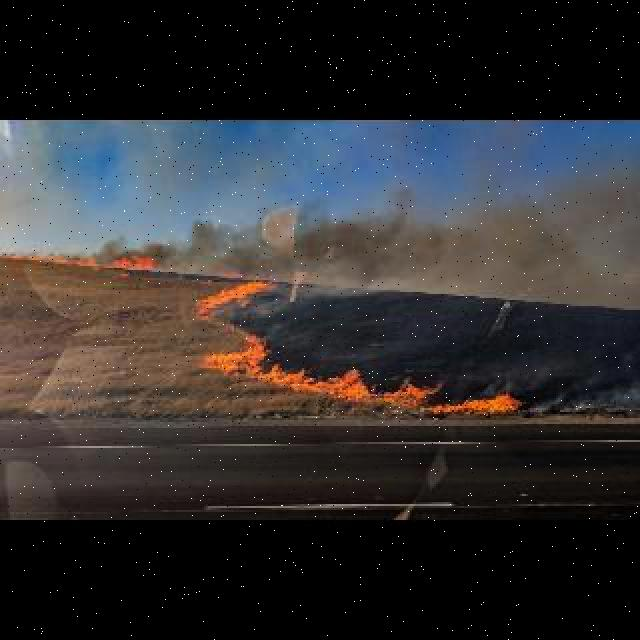fire: (222, 355, 524, 417), (204, 279, 273, 318), (32, 254, 156, 272)
smoke: (175, 146, 640, 306)
